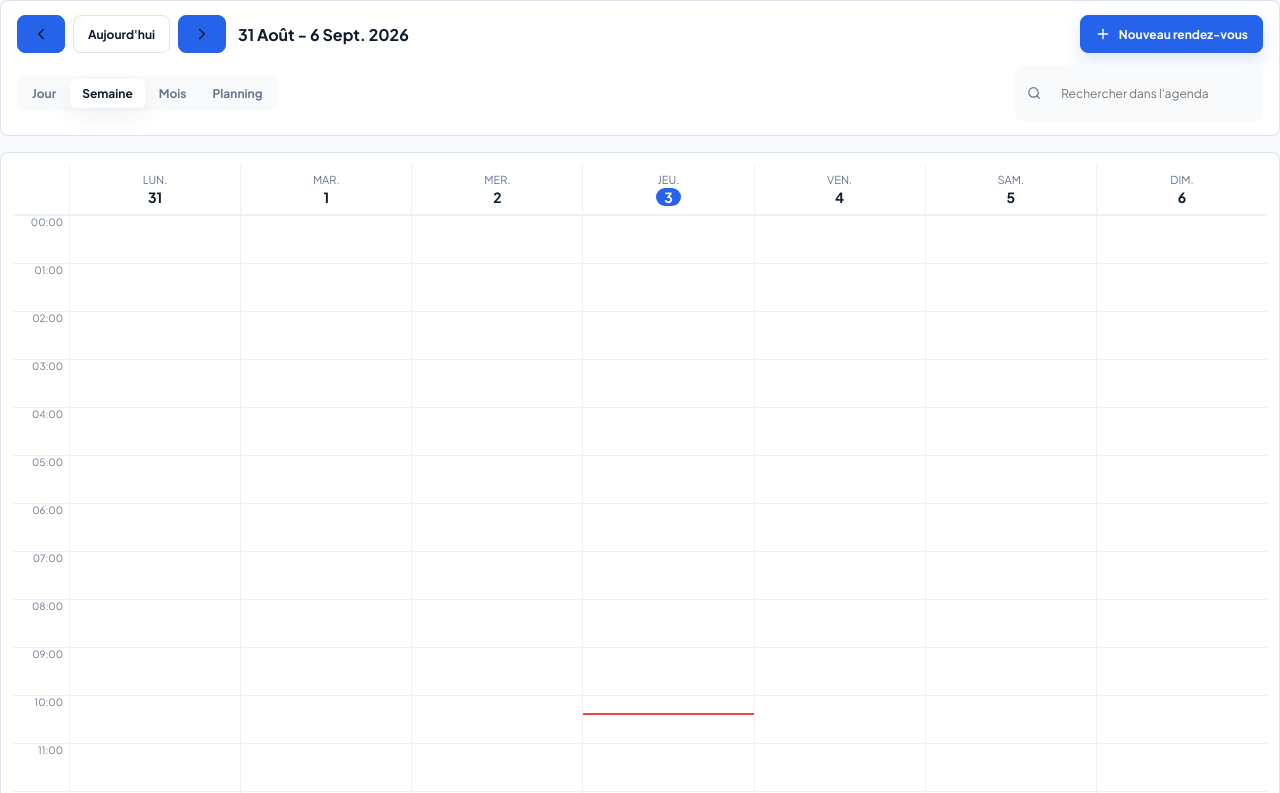
Test: CalendarPage event creation errors › shows the backend's explicit error message when creation is rejected (e.g. missing RBAC permission)
Click the button "Nouveau rendez-vous".
click(1171, 34)  # box [1080,15,1263,53]
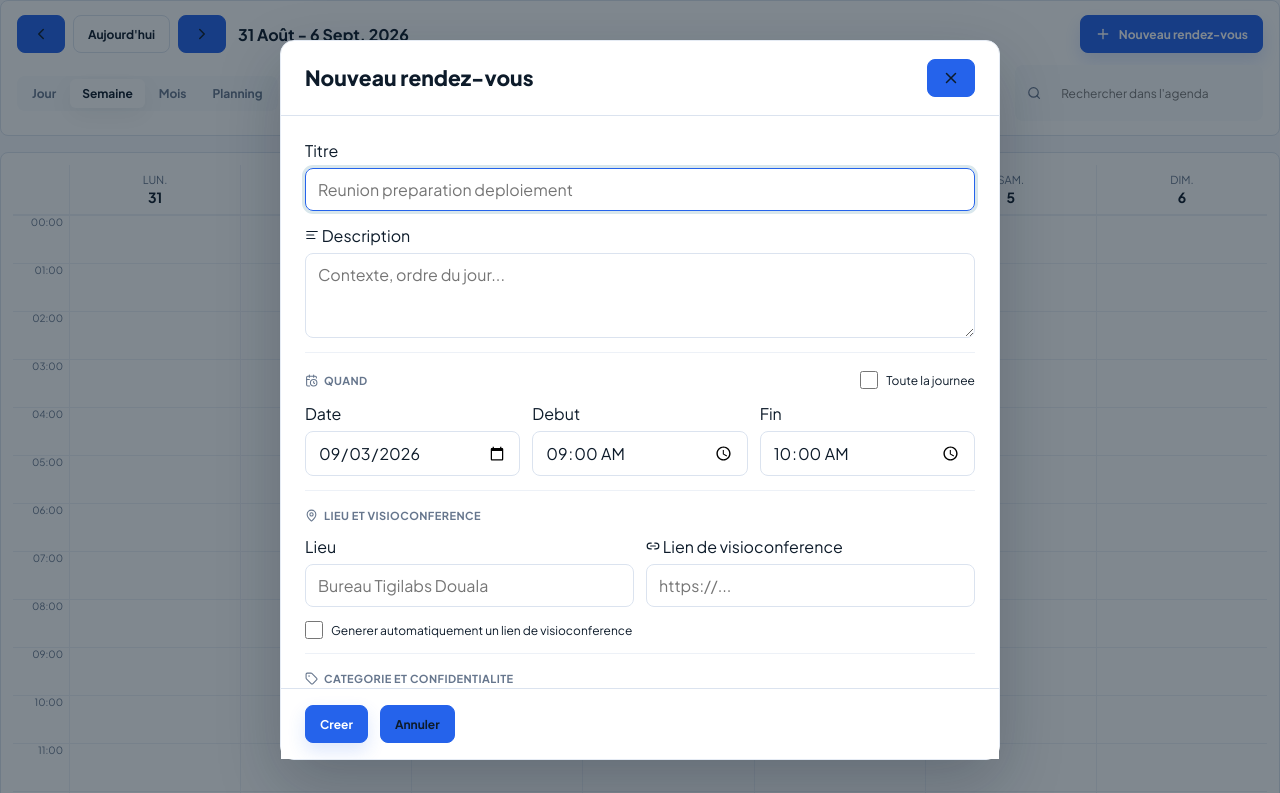
Type "Point client" into the field with placeholder "Reunion preparation deploiement".
click(640, 190); type("Point client")  # box [305,168,975,211]
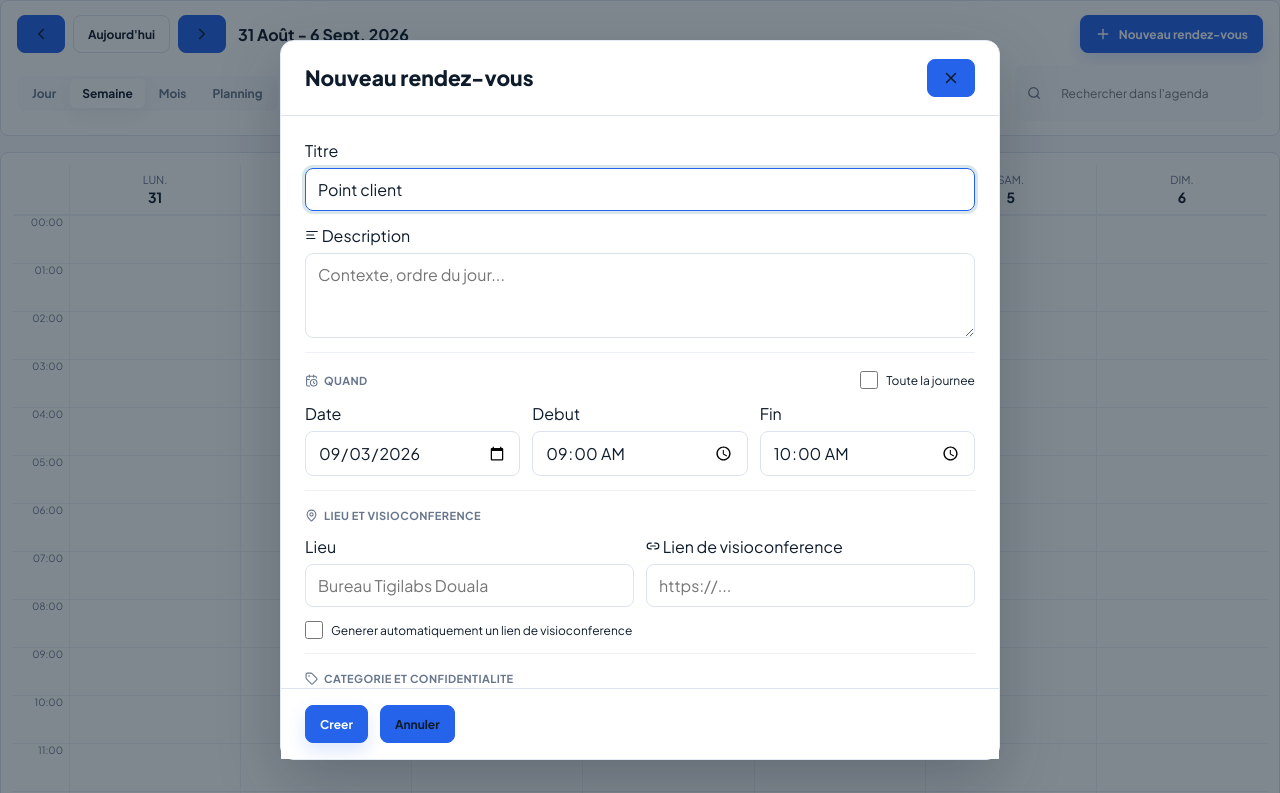
Click the button "Creer".
click(336, 724)  # box [305,705,368,743]
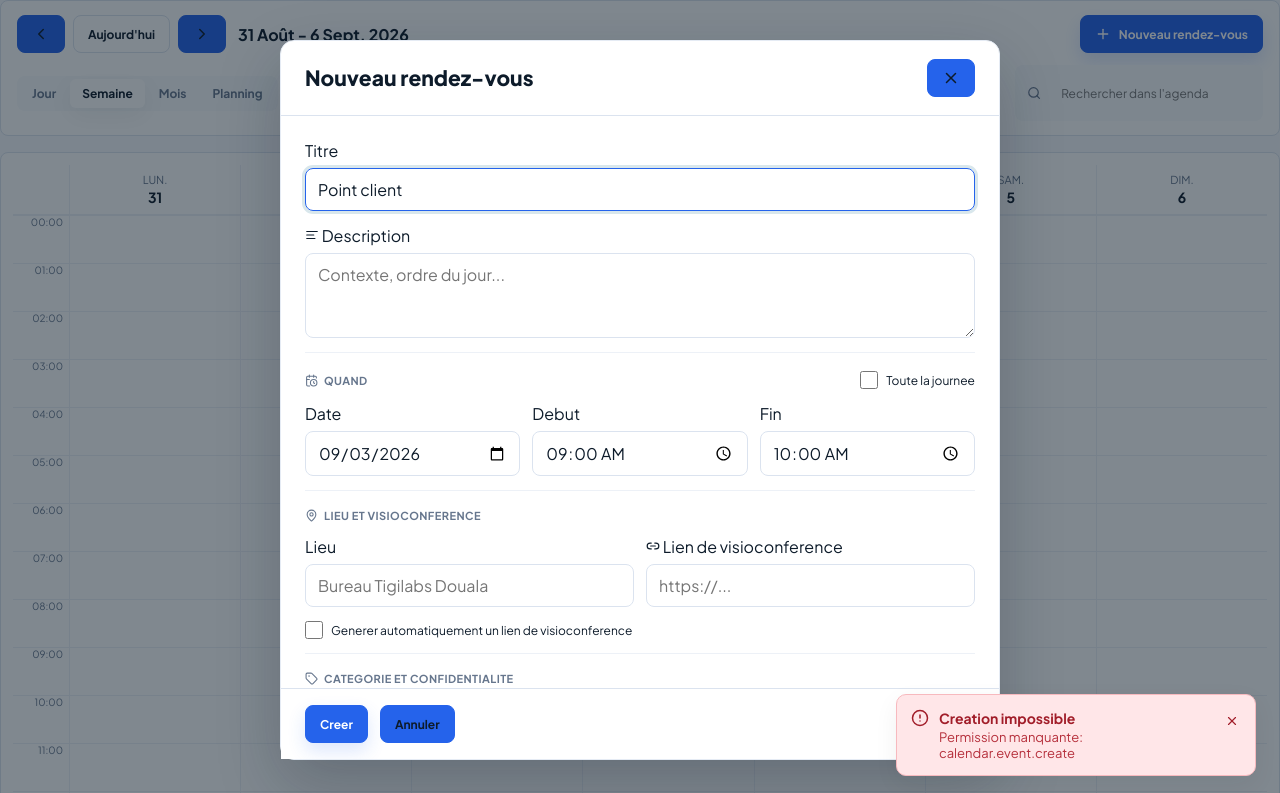
Check: the text "Creation impossible" is shown, box [939,709,1075,727]
Check: the text "Permission manquante: calendar.event.create" is shown, box [939,729,1083,761]
